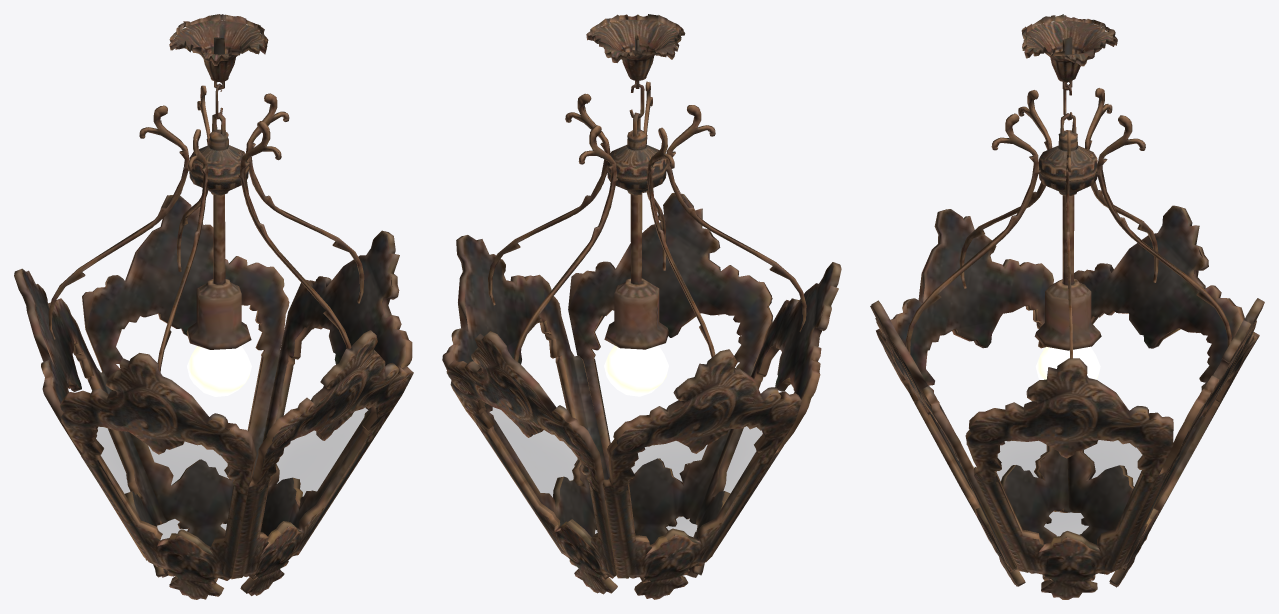
The model's file is ph_lantern_chandelier_01.glb.
3 renders of one model, left to right at view 1: azimuth 30°, elevation 25°; view 2: azimuth 150°, elevation 25°; view 3: azimuth 270°, elevation 25°, orthographic.
Parts seen in each view (by area): view 1: lantern_chandelier_01; view 2: lantern_chandelier_01; view 3: lantern_chandelier_01.
Boxes of the visible parts, left/top/right/bottom form: lantern_chandelier_01: left=14, top=14, right=413, bottom=599; lantern_chandelier_01: left=442, top=14, right=841, bottom=599; lantern_chandelier_01: left=870, top=14, right=1264, bottom=599.
Size of the model in its own units: 0.5792 by 0.8776 by 0.5746.
Materials: 3 (2 with a texture image).
